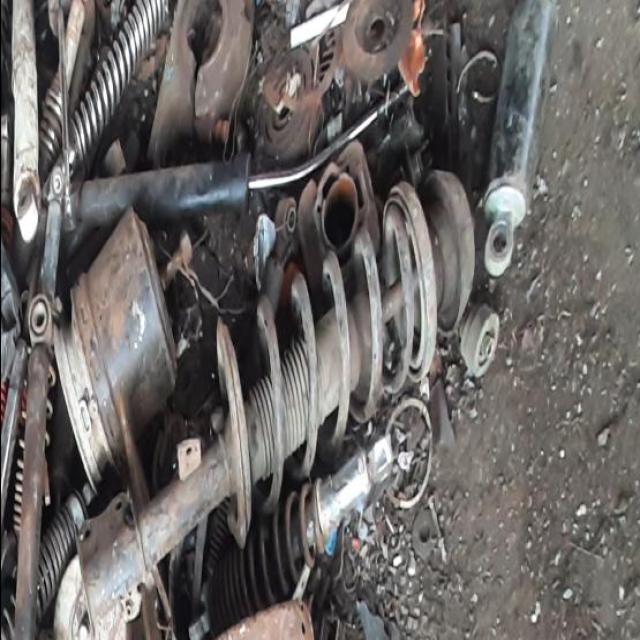shock absorber: (52, 169, 475, 638), (71, 82, 408, 227), (40, 1, 171, 206)
